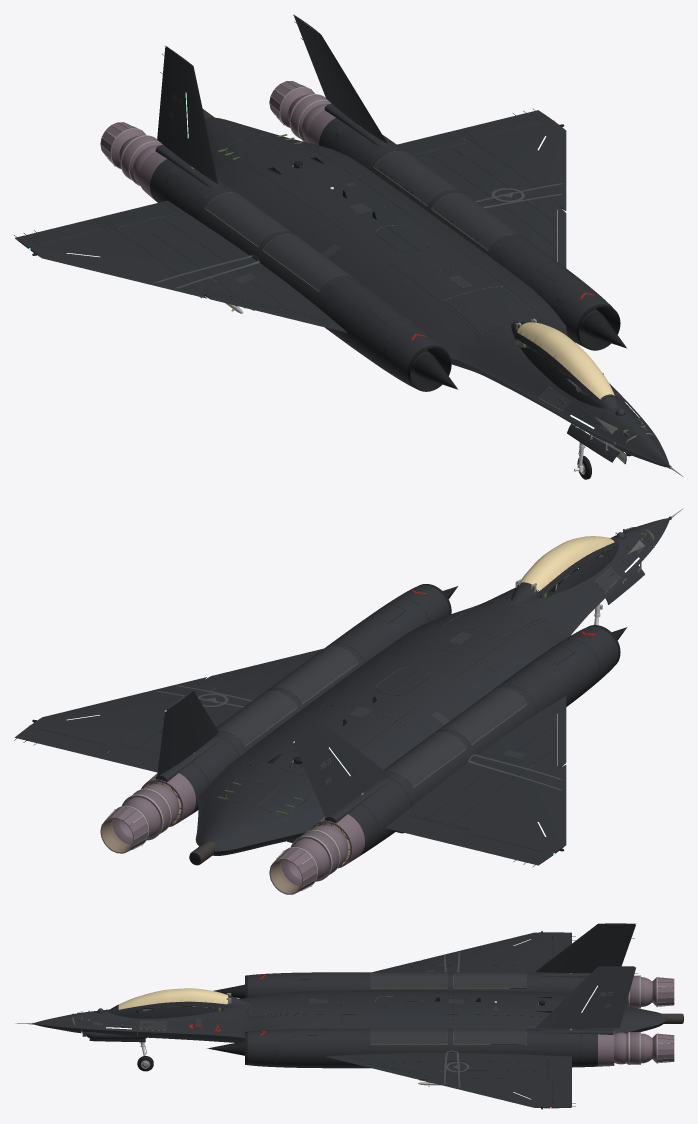
Rendered from XR77_Umbra.fbx.
3 renders of one model, top to bottom at view 1: azimuth 30°, elevation 25°; view 2: azimuth 150°, elevation 25°; view 3: azimuth 270°, elevation 25°, orthographic. The views are drawn at different scales.
Parts seen in each view (by area): view 1: RBX_Body_Skin_2, RBX_Body_Skin_3, RBX_Body_Skin_1, RBX_Wingtip_R_Skin, RBX_Tail_R_Skin, RBX_Wingtip_L_Skin, RBX_Tail_L_Skin, RBX_LiftFan_DoorTop_Skin, RBX_Canopy_Glass, RBX_Body_SkinDark_1, RBX_EnginePanel_Fwd_R_SkinAlt, RBX_EnginePanel_Fwd_L_SkinAlt (+16 smaller); view 2: RBX_Body_Skin_2, RBX_Body_Skin_3, RBX_Body_Skin_1, RBX_Wingtip_R_Skin, RBX_Tail_R_Skin, RBX_Wingtip_L_Skin, RBX_Tail_L_Skin, RBX_EnginePanel_Fwd_L_SkinAlt, RBX_EnginePanel_Fwd_R_SkinAlt, RBX_EnginePanel_Aft_R_SkinAlt, RBX_LiftFan_DoorTop_Skin, RBX_EnginePanel_Aft_L_SkinAlt (+16 smaller); view 3: RBX_Body_Skin_2, RBX_Body_Skin_3, RBX_Body_Skin_1, RBX_Tail_L_Skin, RBX_Tail_R_Skin, RBX_Wingtip_L_Skin, RBX_Wingtip_R_Skin, RBX_Canopy_Glass, RBX_EnginePanel_Fwd_L_SkinAlt, RBX_EnginePanel_Fwd_R_SkinAlt, RBX_EnginePanel_Aft_L_SkinAlt, RBX_EnginePanel_Aft_R_SkinAlt (+17 smaller).
Boxes of the visible parts, x1,y1,x2,y2 form: RBX_Body_Skin_2: (157,171,573,361); RBX_Body_Skin_3: (97,103,514,261); RBX_Body_Skin_1: (366,271,654,451); RBX_Wingtip_R_Skin: (15,218,206,298); RBX_Tail_R_Skin: (157,46,218,184); RBX_Wingtip_L_Skin: (456,110,566,210); RBX_Tail_L_Skin: (293,14,387,143); RBX_LiftFan_DoorTop_Skin: (444,286,540,334); RBX_Canopy_Glass: (517,322,614,399); RBX_Body_SkinDark_1: (153,153,629,456); RBX_EnginePanel_Fwd_R_SkinAlt: (263,234,353,291); RBX_EnginePanel_Fwd_L_SkinAlt: (432,193,522,249); RBX_Body_Skin_2: (157,611,584,798); RBX_Body_Skin_3: (97,710,518,867); RBX_Body_Skin_1: (374,529,653,697); RBX_Wingtip_R_Skin: (456,765,566,865); RBX_Tail_R_Skin: (294,721,387,817); RBX_Wingtip_L_Skin: (14,677,206,757); RBX_Tail_L_Skin: (157,690,218,776); RBX_EnginePanel_Fwd_L_SkinAlt: (268,646,358,703); RBX_EnginePanel_Fwd_R_SkinAlt: (436,687,527,744); RBX_EnginePanel_Aft_R_SkinAlt: (384,732,466,787); RBX_LiftFan_DoorTop_Skin: (444,599,540,639); RBX_EnginePanel_Aft_L_SkinAlt: (216,691,297,745); RBX_Body_Skin_2: (299,958,491,1081); RBX_Body_Skin_3: (484,958,634,1079); RBX_Body_Skin_1: (81,972,305,1067); RBX_Tail_L_Skin: (535,966,635,1028); RBX_Tail_R_Skin: (535,923,635,972); RBX_Wingtip_L_Skin: (421,1078,571,1108); RBX_Wingtip_R_Skin: (421,932,571,960); RBX_Canopy_Glass: (118,988,228,1009); RBX_EnginePanel_Fwd_L_SkinAlt: (370,1028,447,1044); RBX_EnginePanel_Fwd_R_SkinAlt: (370,972,447,987); RBX_EnginePanel_Aft_L_SkinAlt: (453,1028,526,1044); RBX_EnginePanel_Aft_R_SkinAlt: (453,972,526,987).
Bounding box in the file's own units: 55.11 × 18.39 × 87.82.
